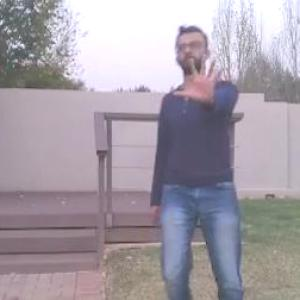follow_hand: (171, 52, 224, 104)
